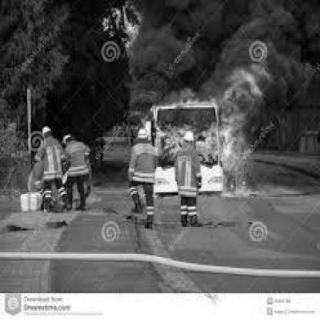Fire: (127, 62, 277, 200)
Smoke: (240, 4, 306, 66)
